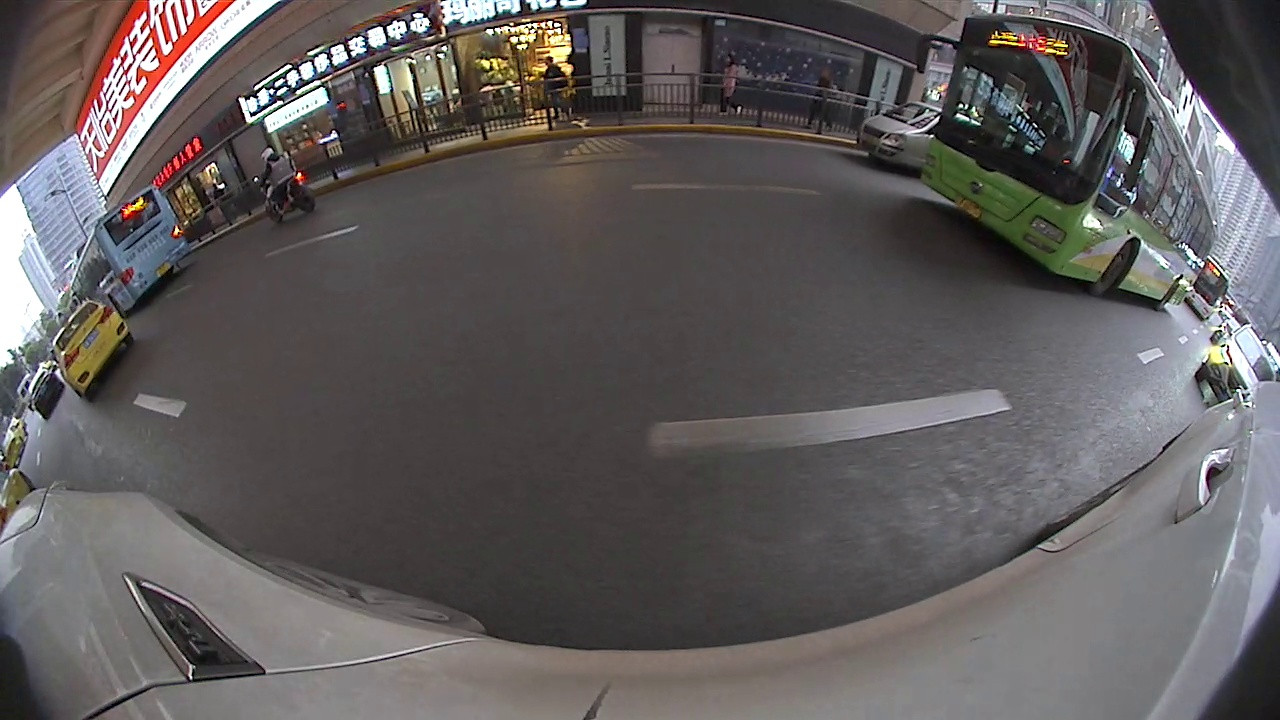bus: (929, 13, 1217, 314), (73, 179, 190, 319)
car: (52, 299, 132, 399), (854, 97, 950, 179), (1194, 324, 1274, 416), (26, 364, 64, 420)
front: (1094, 235, 1139, 299)
rider: (260, 144, 308, 227)
